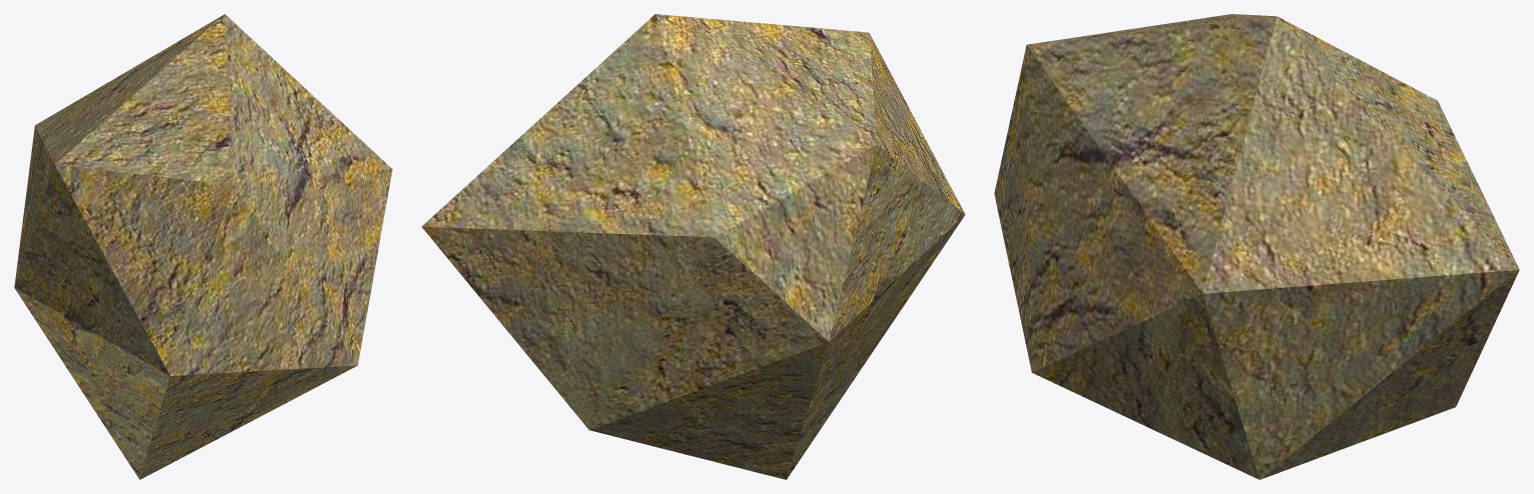
File: rock3.fbx
The picture shows the model from 3 angles, left to right: view 1: azimuth 30°, elevation 25°; view 2: azimuth 150°, elevation 25°; view 3: azimuth 270°, elevation 25°; orthographic projection. The views are drawn at different scales.
Visible parts, largest first — view 1: Rock3; view 2: Rock3; view 3: Rock3.
Part boxes in pixels (bbox=[...]): Rock3: bbox=[14, 14, 392, 479]; Rock3: bbox=[421, 14, 965, 479]; Rock3: bbox=[994, 14, 1519, 479].
Bounding box in the file's own units: 10.26 × 12.83 × 11.99.
